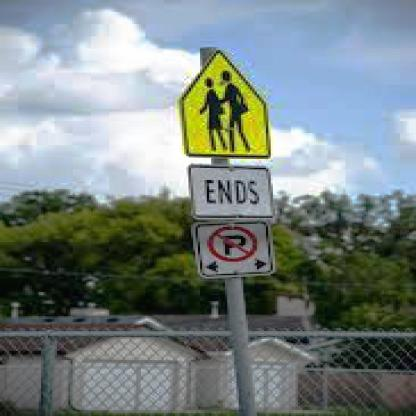No parking: (198, 222, 266, 270)
